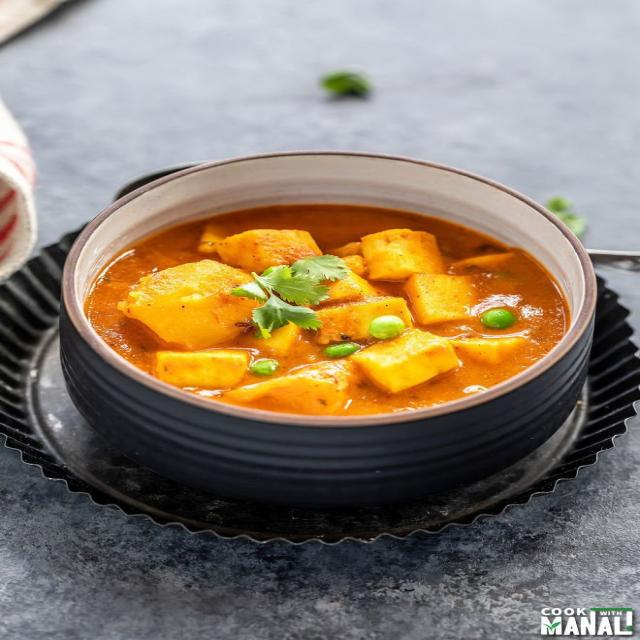aloo_matar: (107, 177, 557, 398)
